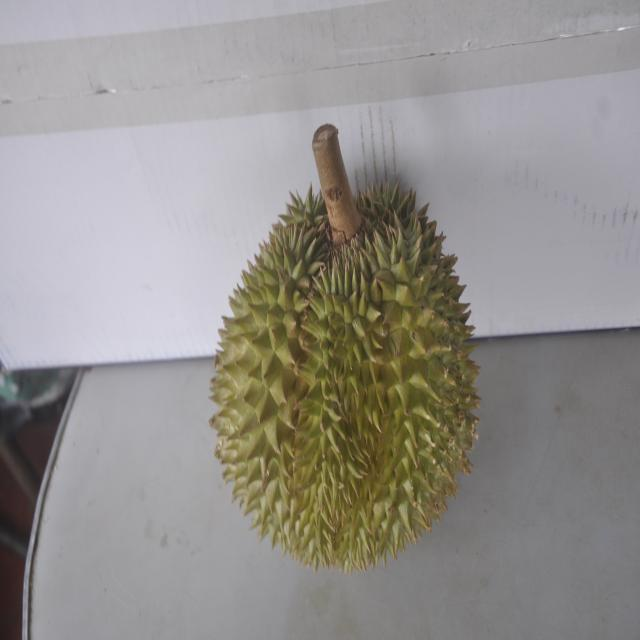mature: (209, 138, 475, 572)
